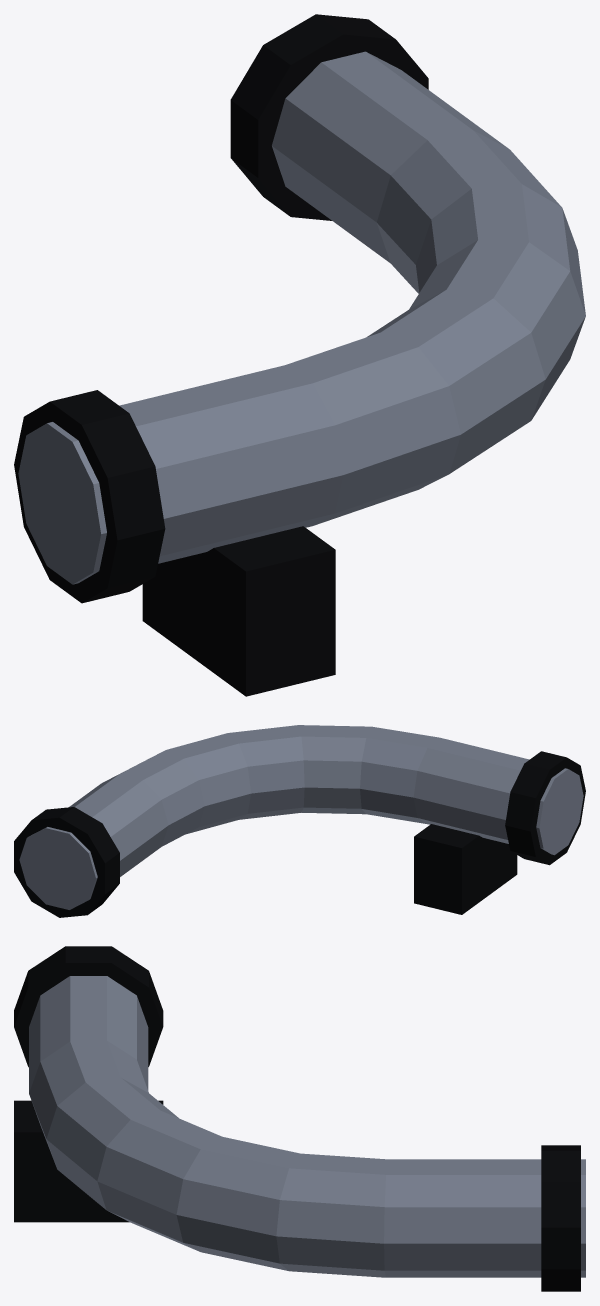
Rendered from pipe_corner.obj.
3 views of the same model, one above another, from view 1: azimuth 30°, elevation 25°; view 2: azimuth 150°, elevation 25°; view 3: azimuth 270°, elevation 25° (orthographic). The views are drawn at different scales.
Visible parts, largest first — view 1: pipe_corner; view 2: pipe_corner; view 3: pipe_corner.
Boxes of the visible parts, box(x1,y1,x2,y2) form: pipe_corner: box(14, 14, 585, 696); pipe_corner: box(14, 725, 585, 917); pipe_corner: box(14, 946, 585, 1291).
Bounding box in the file's own units: 1.14 × 0.45 × 1.15.
